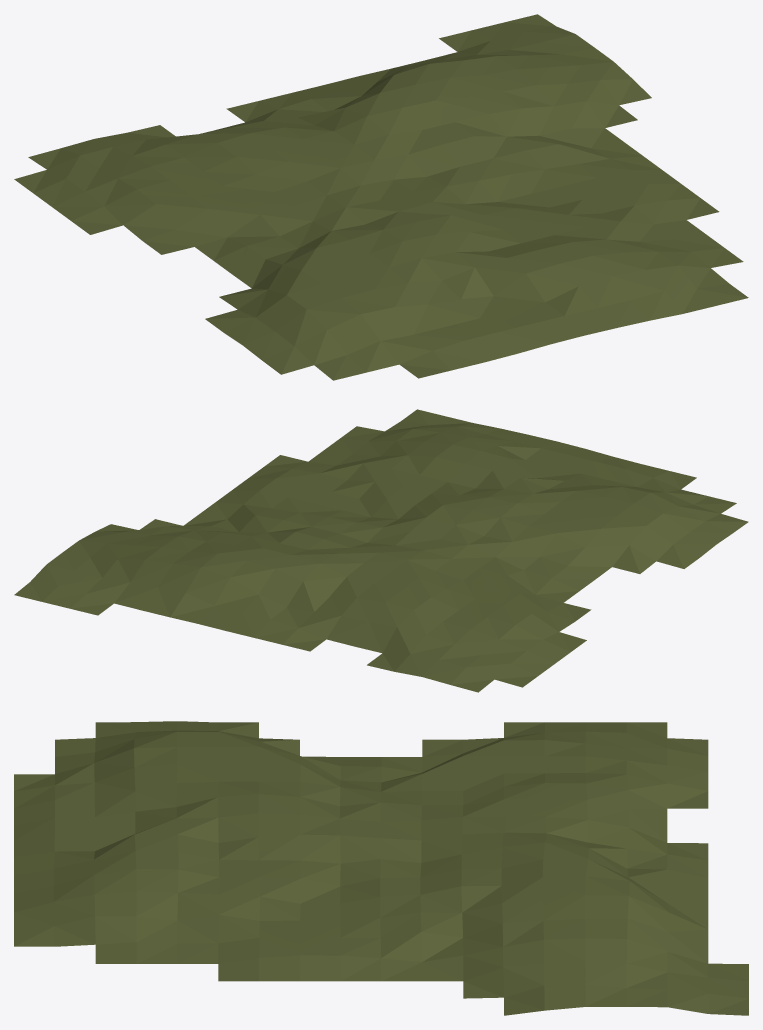
Rendered from SM_Env_GroundMounds_05.gltf.
3 views of the same model, one above another, from view 1: azimuth 30°, elevation 25°; view 2: azimuth 150°, elevation 25°; view 3: azimuth 270°, elevation 25° (orthographic). The views are drawn at different scales.
Visible parts, largest first — view 1: SM_Env_GroundMounds_05; view 2: SM_Env_GroundMounds_05; view 3: SM_Env_GroundMounds_05.
Part boxes in pixels (x1,y1,x2,y2): SM_Env_GroundMounds_05: [14, 14, 748, 380]; SM_Env_GroundMounds_05: [14, 409, 748, 692]; SM_Env_GroundMounds_05: [14, 721, 748, 1015].
Bounding box in the file's own units: 7.03 × 0.3995 × 7.44.
Materials: 1 (1 with a texture image).
